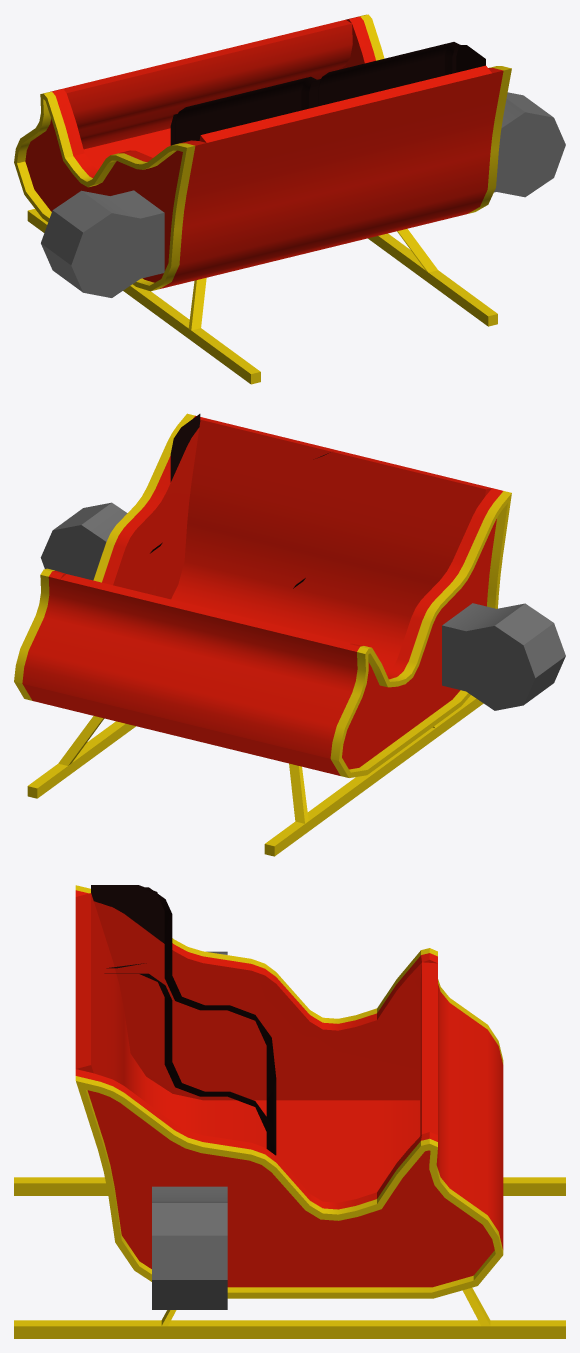
File: sleigh.fbx
3 views of the same model, one above another, from view 1: azimuth 30°, elevation 25°; view 2: azimuth 150°, elevation 25°; view 3: azimuth 270°, elevation 25° (orthographic). The views are drawn at different scales.
Parts seen in each view (by area): view 1: Combined; view 2: Combined; view 3: Combined.
Part boxes in pixels (left/top/right/bottom): Combined: left=14, top=14, right=565, bottom=384; Combined: left=14, top=413, right=565, bottom=856; Combined: left=14, top=885, right=565, bottom=1338.
Size of the model in its own units: 352 by 163 by 276.
